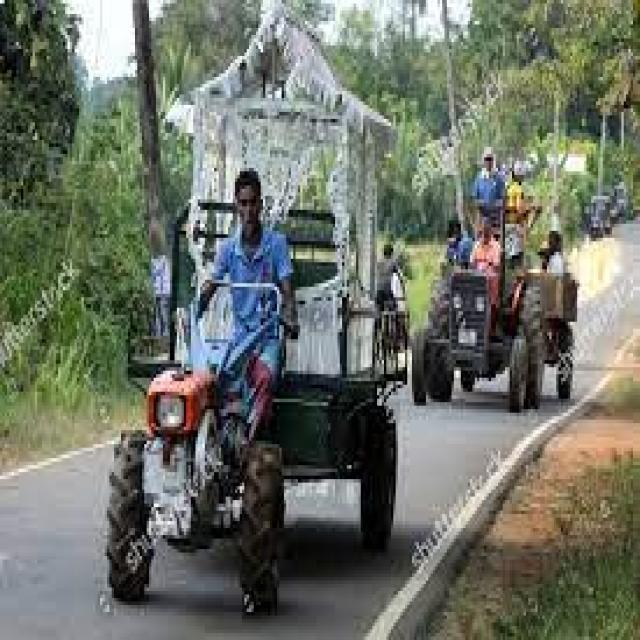person: (198, 168, 293, 441), (470, 224, 498, 308), (505, 171, 540, 227), (475, 154, 503, 210), (377, 245, 400, 311), (540, 231, 561, 276)
tractor: (412, 206, 575, 413)
